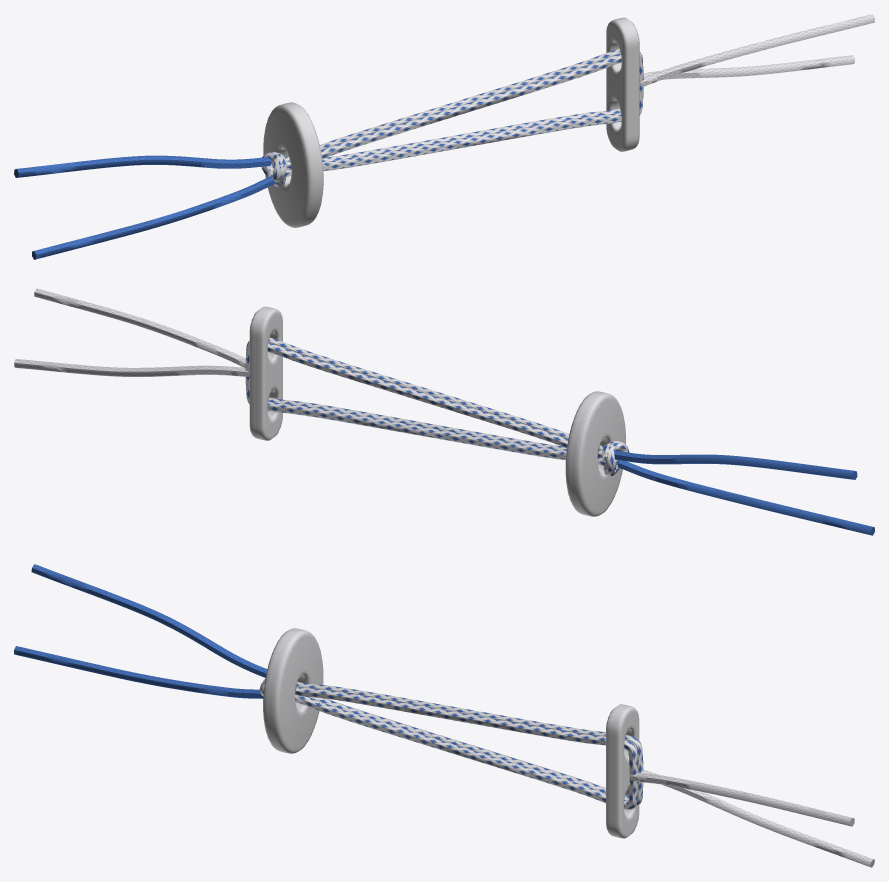
The model's file is c-wingbutton-ac.lod1.glb.
3 views of the same model, one above another, from view 1: azimuth 30°, elevation 25°; view 2: azimuth 150°, elevation 25°; view 3: azimuth 330°, elevation 25° (orthographic).
Parts seen in each view (by area): view 1: cwingbutton; view 2: cwingbutton; view 3: cwingbutton.
Boxes of the visible parts, x1,y1,x2,y2 form: cwingbutton: (14, 14, 874, 259); cwingbutton: (14, 288, 874, 535); cwingbutton: (14, 564, 874, 867).
Size of the model in its own units: 0.0815 by 0.012 by 0.00799.
Materials: 4 (3 with a texture image).
